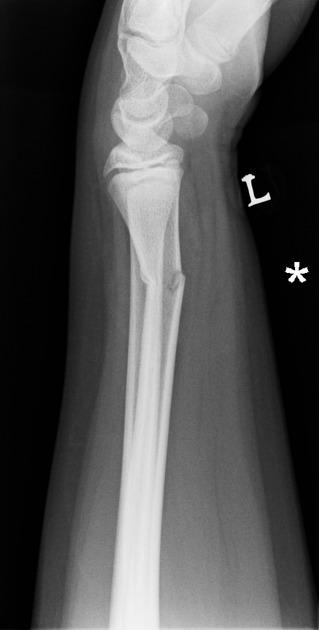fractured: (136, 263, 186, 298)
